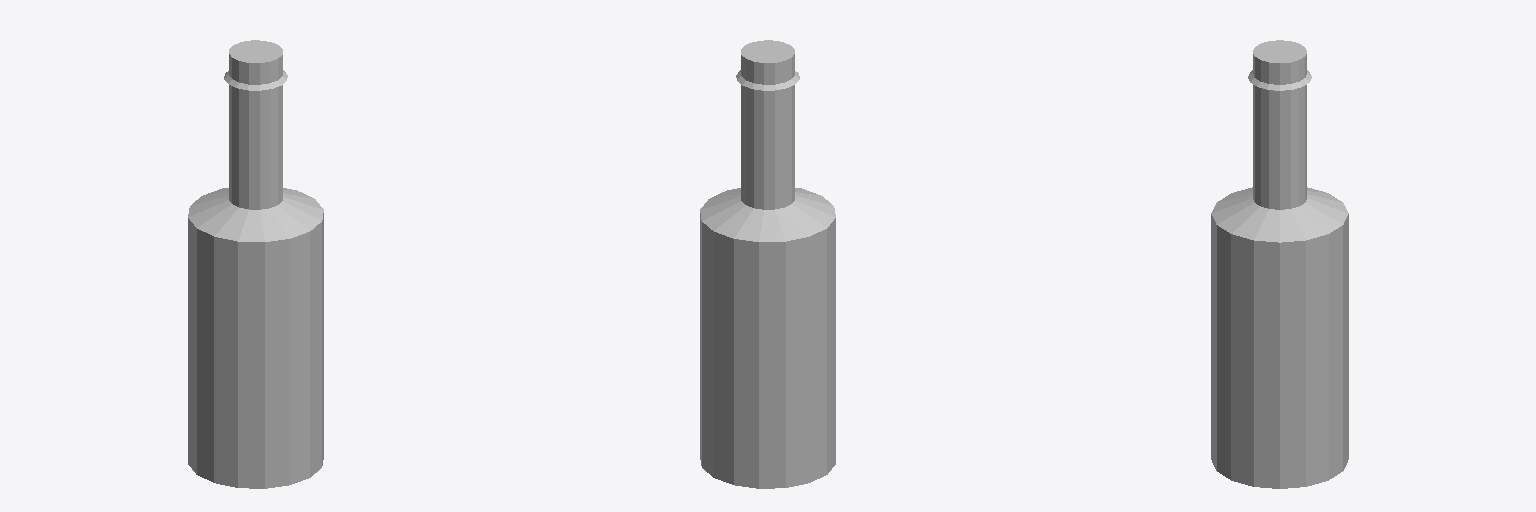
Rendered from bottle_wine.obj.
3 renders of one model, left to right at view 1: azimuth 30°, elevation 25°; view 2: azimuth 150°, elevation 25°; view 3: azimuth 270°, elevation 25°, orthographic.
Bounding box in the file's own units: 0.4115 × 1.35 × 0.4115.